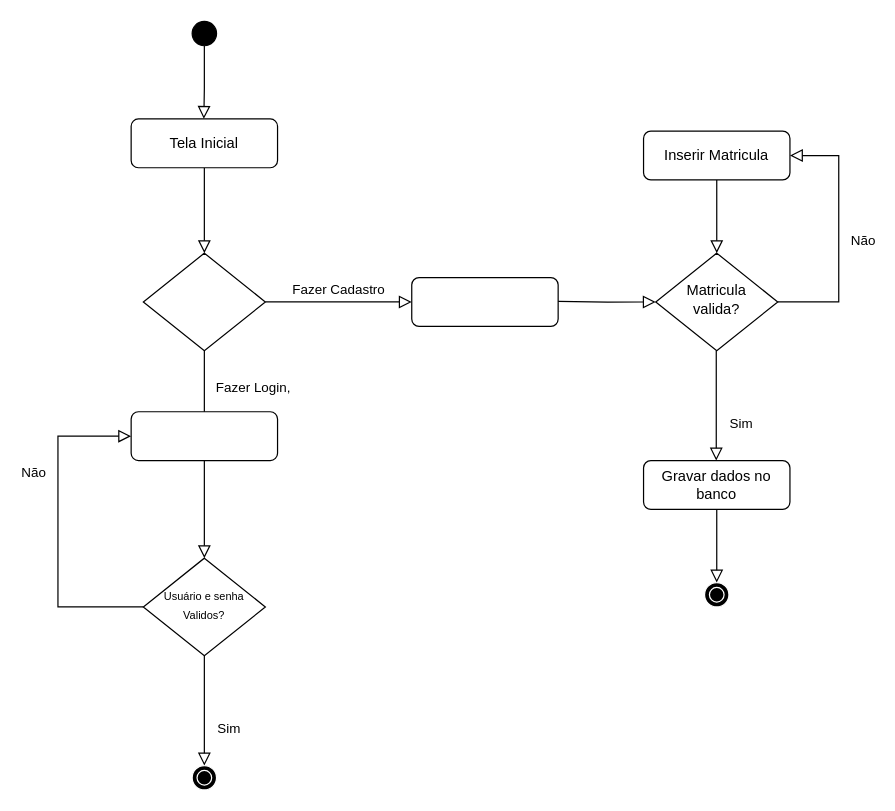
This 895x811 diagram has some shape labels left out. The centre of each missing label's shape, as x and y in pixels:
"Inserir usuário e senha" belongs at pixel 204 436.
"Preencher todos os campos" belongs at pixel 484 301.
